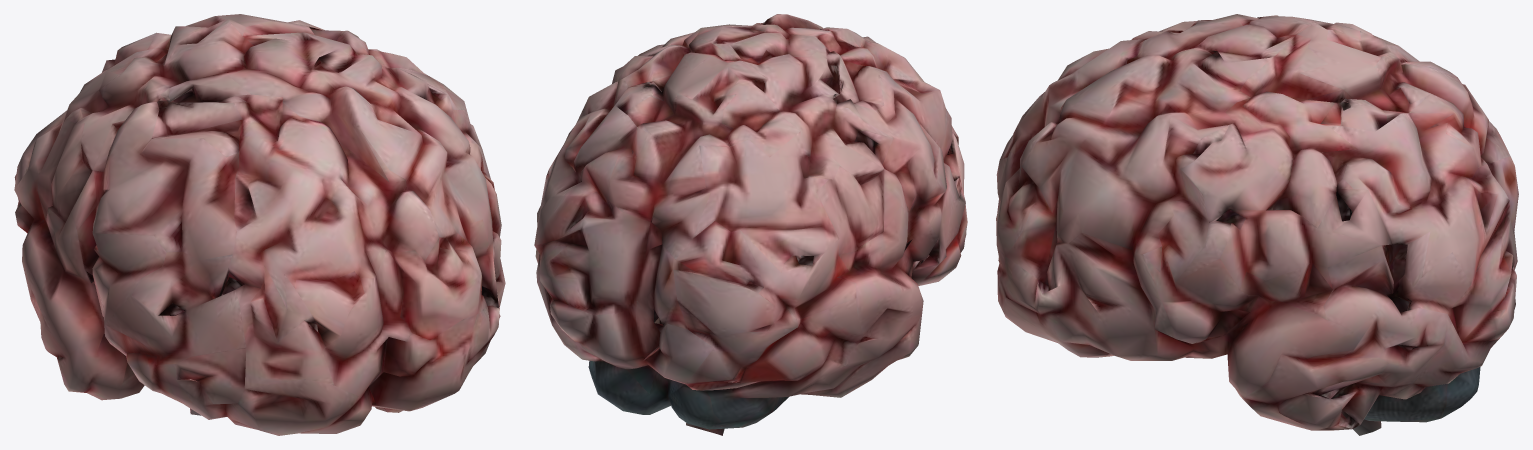
The model's file is brain.glb.
3 renders of one model, left to right at view 1: azimuth 30°, elevation 25°; view 2: azimuth 150°, elevation 25°; view 3: azimuth 270°, elevation 25°, orthographic. The views are drawn at different scales.
Parts seen in each view (by area): view 1: Mesh_0; view 2: Mesh_0; view 3: Mesh_0.
Part boxes in pixels (x1,y1,x2,y2): Mesh_0: (14,14,505,435); Mesh_0: (534,14,967,435); Mesh_0: (996,14,1518,435).
Size of the model in its own units: 1.74 by 1.68 by 2.
1 material, 1 textured.
